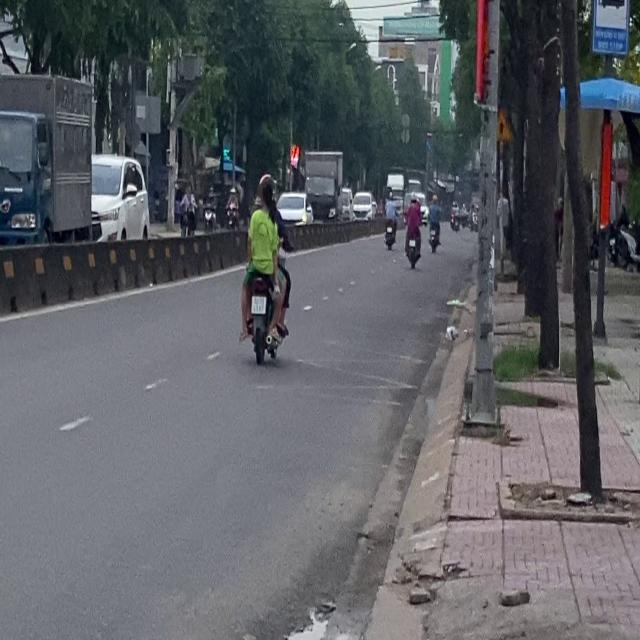licenseplate: (237, 171, 291, 364)
motorcyclist: (257, 174, 274, 208)
nohelmet: (251, 295, 265, 312)
